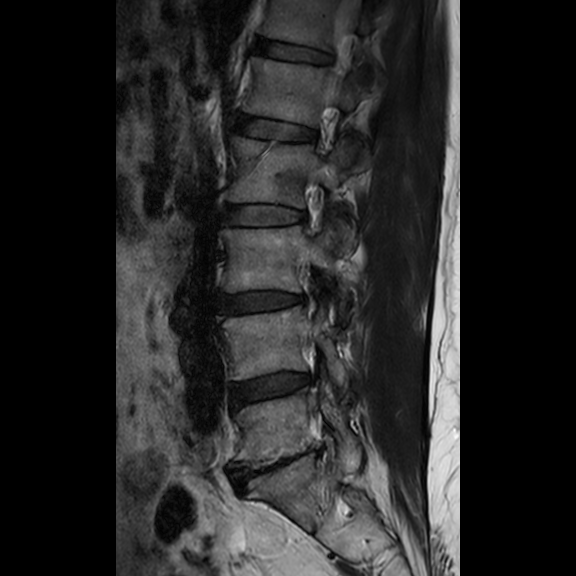RFS0: (302, 102, 346, 164), (291, 174, 328, 243)
